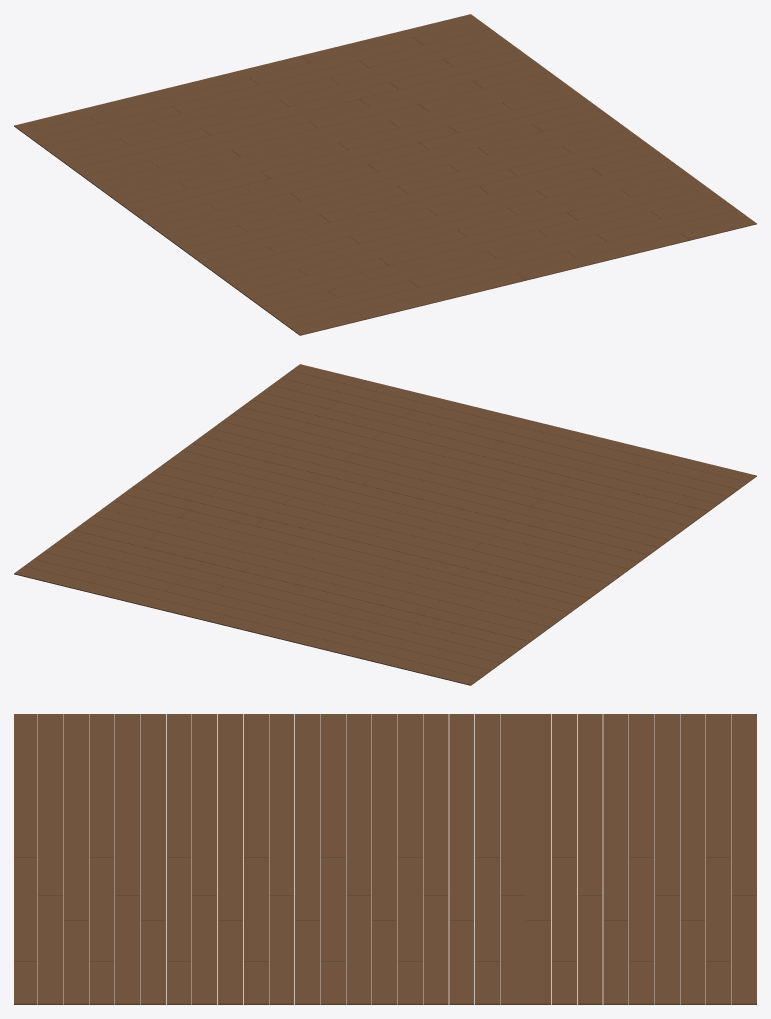
The model's file is Parquet_3.fbx.
3 renders of one model, top to bottom at view 1: azimuth 30°, elevation 25°; view 2: azimuth 150°, elevation 25°; view 3: azimuth 270°, elevation 25°, orthographic. The views are drawn at different scales.
Visible parts, largest first — view 1: Parquet_3; view 2: Parquet_3; view 3: Parquet_3.
Part boxes in pixels (<box>): Parquet_3: <box>14,14,756,335</box>; Parquet_3: <box>14,364,756,685</box>; Parquet_3: <box>14,714,756,1004</box>.
Bounding box in the file's own units: 448 × 486 × 0.8159.
